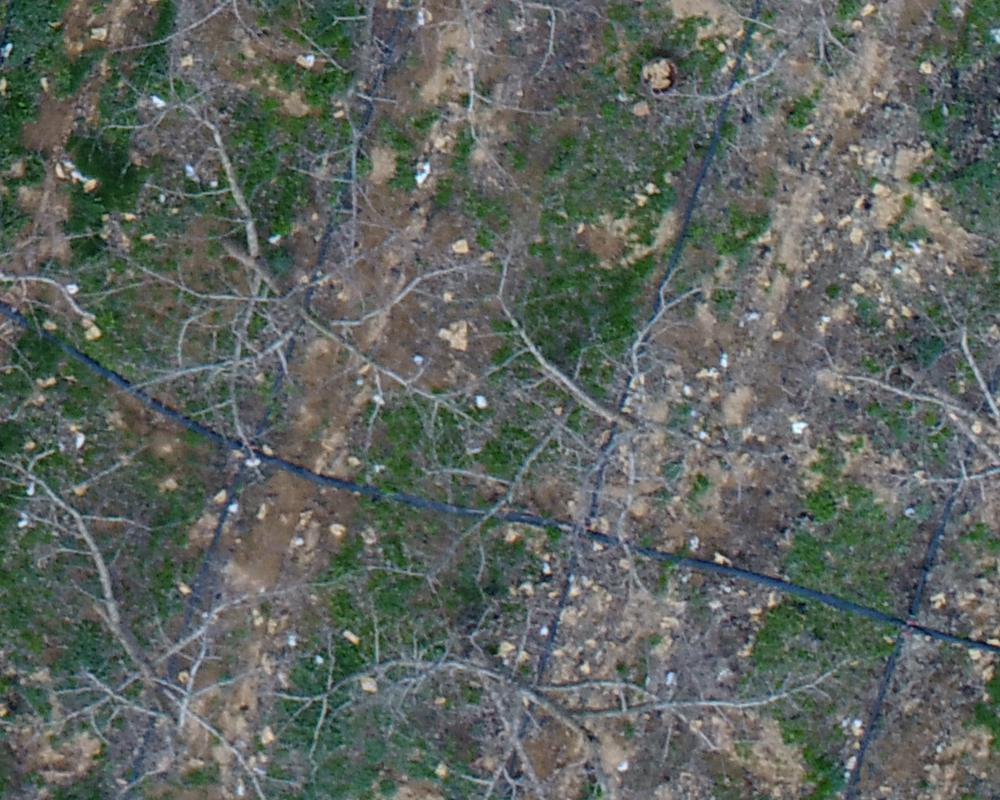apple: (90, 61, 499, 455), (10, 435, 440, 790), (286, 597, 870, 790), (450, 252, 732, 603), (821, 309, 990, 672)
